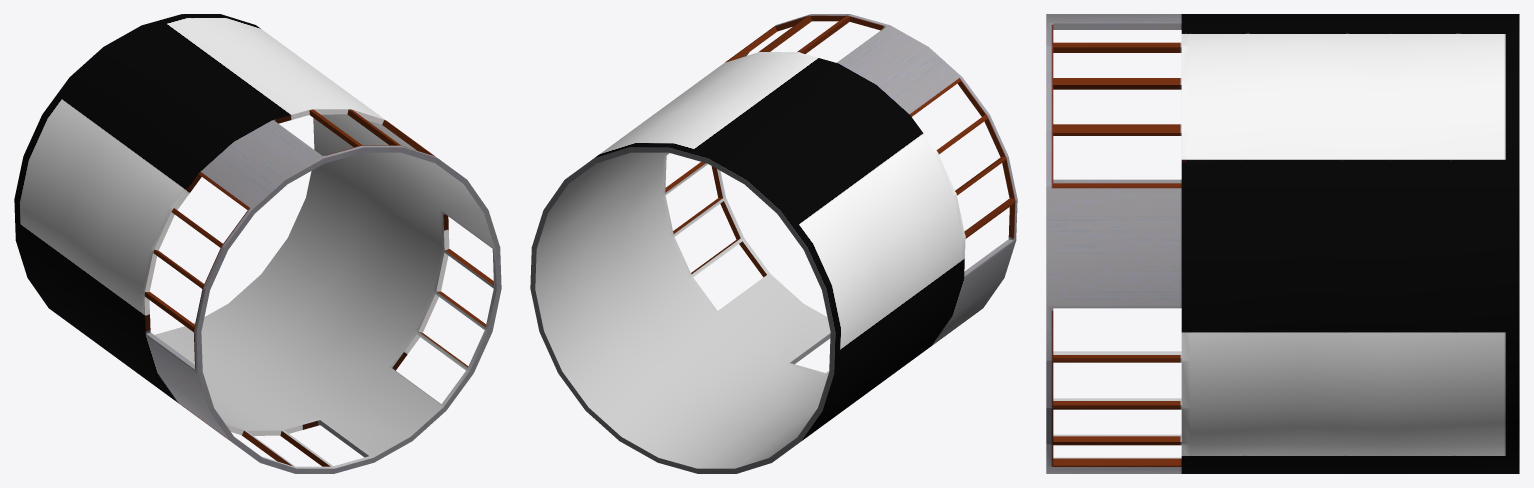
File: titan2i.obj
3 views of the same model, side by side, from view 1: azimuth 30°, elevation 25°; view 2: azimuth 150°, elevation 25°; view 3: azimuth 270°, elevation 25° (orthographic). The views are drawn at different scales.
Visible parts, largest first — view 1: group1, group0; view 2: group1, group0; view 3: group1, group0.
Part boxes in pixels (x1=…): group1: x1=14, y1=14, x2=501, y2=473; group0: x1=154, y1=114, x2=496, y2=468; group1: x1=530, y1=14, x2=1017, y2=473; group0: x1=535, y1=52, x2=830, y2=468; group1: x1=1046, y1=14, x2=1519, y2=473; group0: x1=1053, y1=182, x2=1181, y2=458.
Size of the model in its own units: 3.09 by 3.09 by 3.19.
2 materials, 1 textured.
